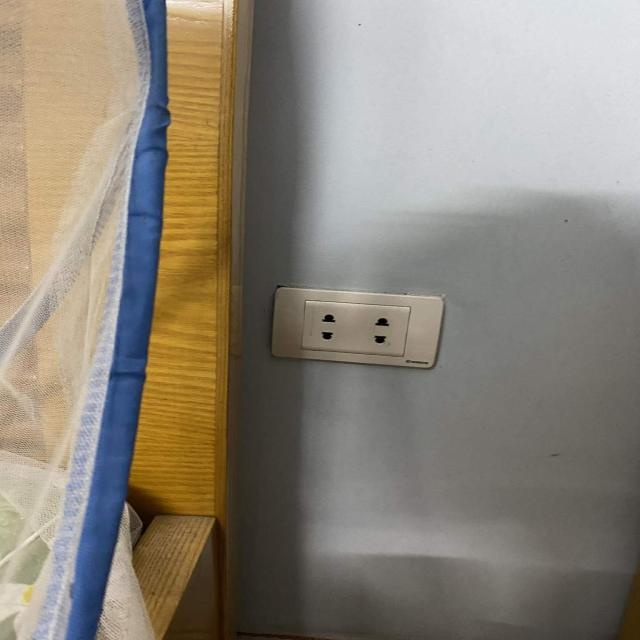outlet: (270, 286, 445, 369)
